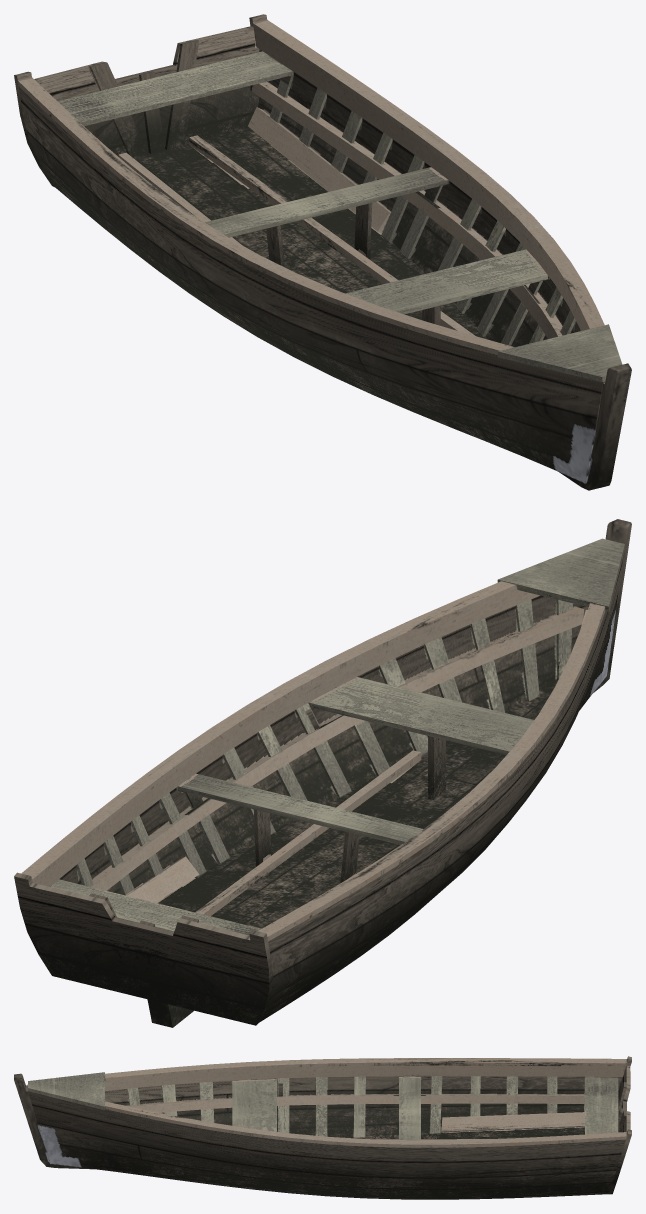
The model's file is OldWoodenBoat.fbx.
The picture shows the model from 3 angles, top to bottom: view 1: azimuth 30°, elevation 25°; view 2: azimuth 150°, elevation 25°; view 3: azimuth 270°, elevation 25°; orthographic projection. The views are drawn at different scales.
Visible parts, largest first — view 1: OldWoodenBoat; view 2: OldWoodenBoat; view 3: OldWoodenBoat.
Boxes of the visible parts, bbox=[...] form: OldWoodenBoat: bbox=[14, 14, 631, 490]; OldWoodenBoat: bbox=[14, 519, 631, 1027]; OldWoodenBoat: bbox=[14, 1056, 631, 1199].
Size of the model in its own units: 1.38 by 0.7903 by 4.16.
1 material, 1 textured.
